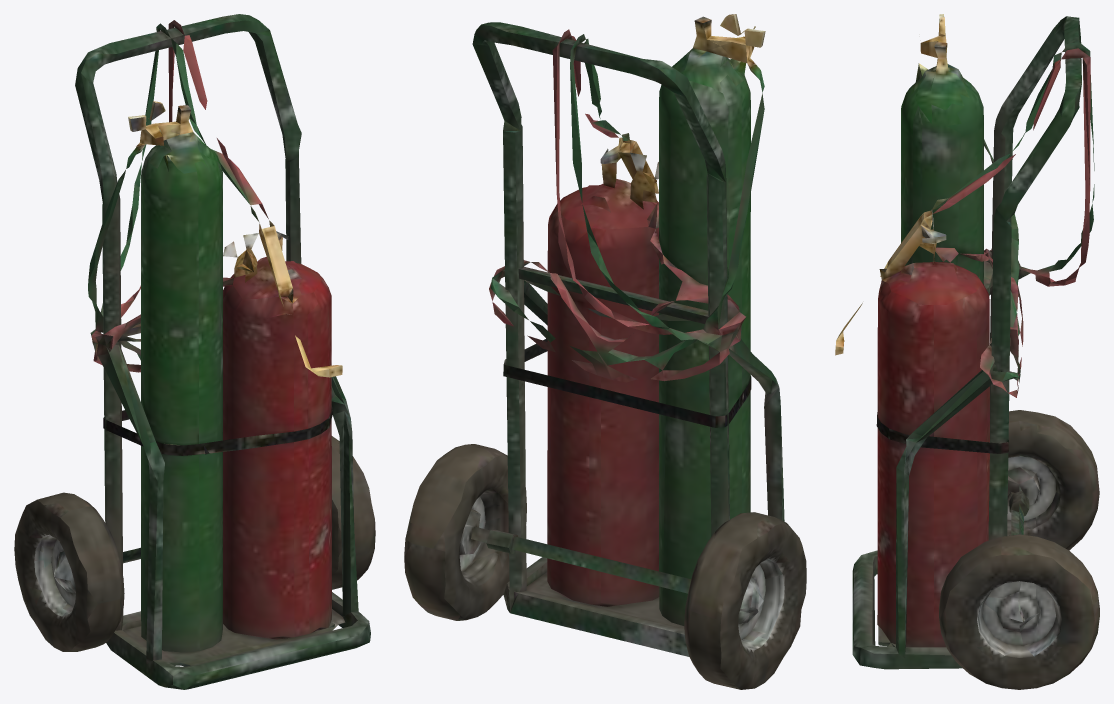
File: welder.glb
3 renders of one model, left to right at view 1: azimuth 30°, elevation 25°; view 2: azimuth 150°, elevation 25°; view 3: azimuth 270°, elevation 25°, orthographic. The views are drawn at different scales.
Visible parts, largest first — view 1: mesh; view 2: mesh; view 3: mesh.
Part boxes in pixels (x1,y1,x2,y2): mesh: (14,14,375,689); mesh: (404,14,806,689); mesh: (835,14,1099,689).
Size of the model in its own units: 0.8356 by 1.56 by 0.6464.
Materials: 1 (1 with a texture image).
